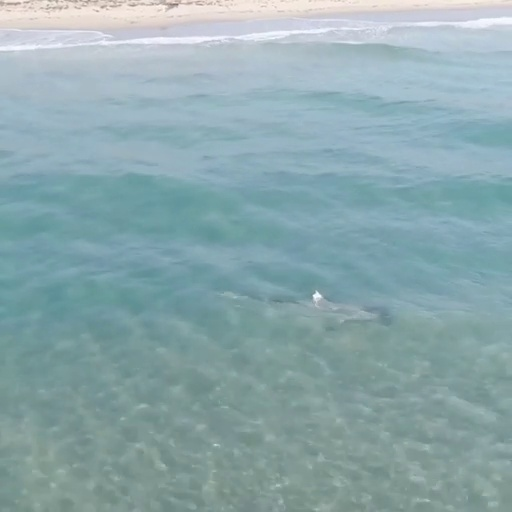shark: (216, 286, 391, 337)
